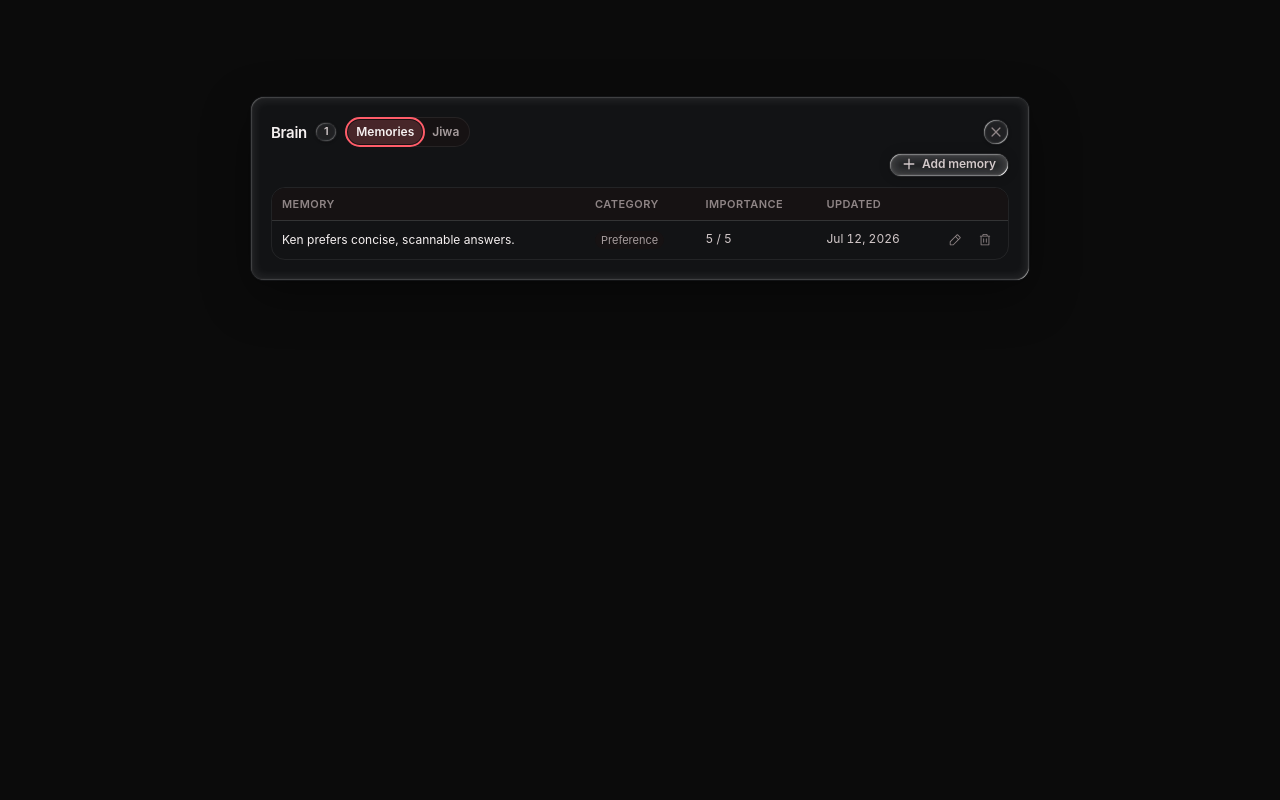
MemoryModal › adds a memory, then returns focus to Add and says so
The image size is (1280, 800).
Check: the text "Ken prefers concise, scannable answers." is shown, box [272, 220, 585, 259]
Click the button "Add memory". click: (949, 165)
box: [889, 153, 1009, 177]
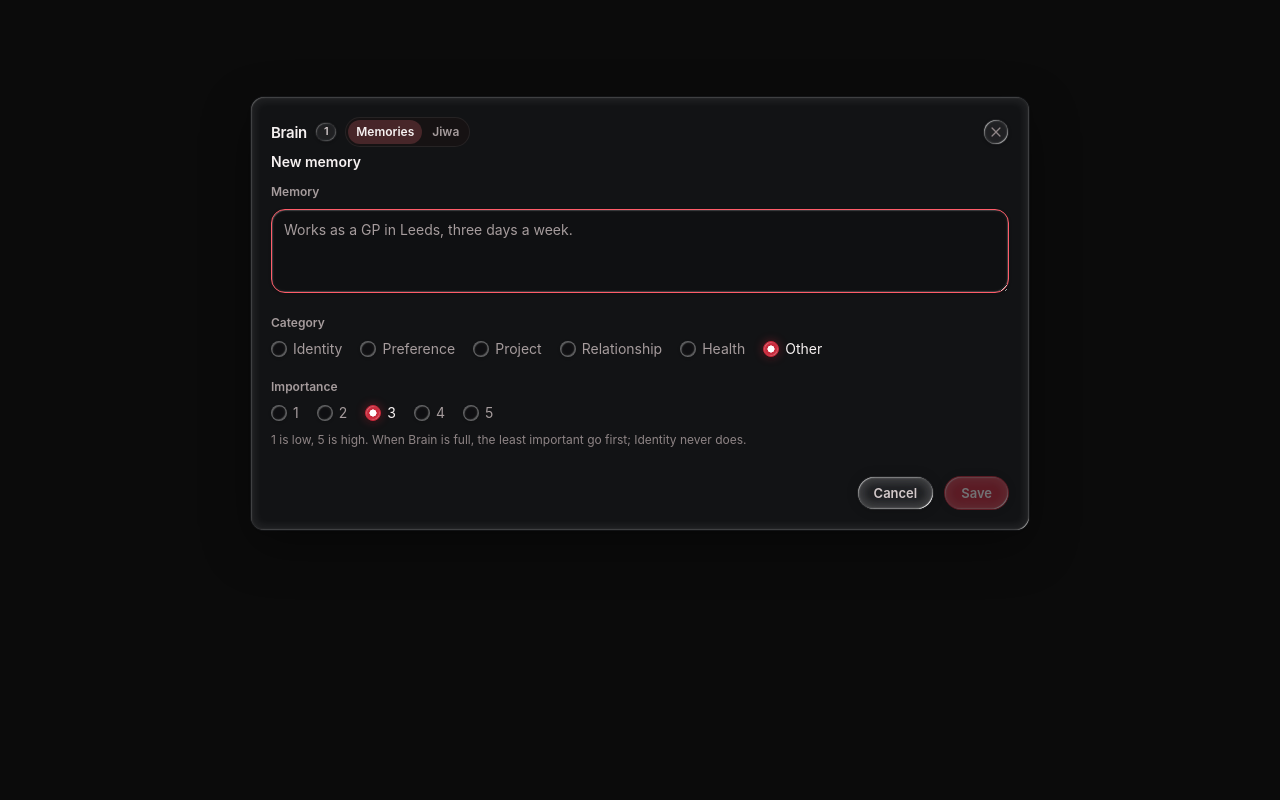
Check: the radio button labelled "Other" is checked, box [763, 340, 779, 356]
Check: the radio button labelled "3" is checked, box [365, 404, 381, 420]
Check: the button "Save" is disabled, box [944, 476, 1009, 510]
Type "  Ken is building durable chat memory.  " into the text box labelled "Memory". click: (640, 251)
box: [271, 209, 1009, 293]
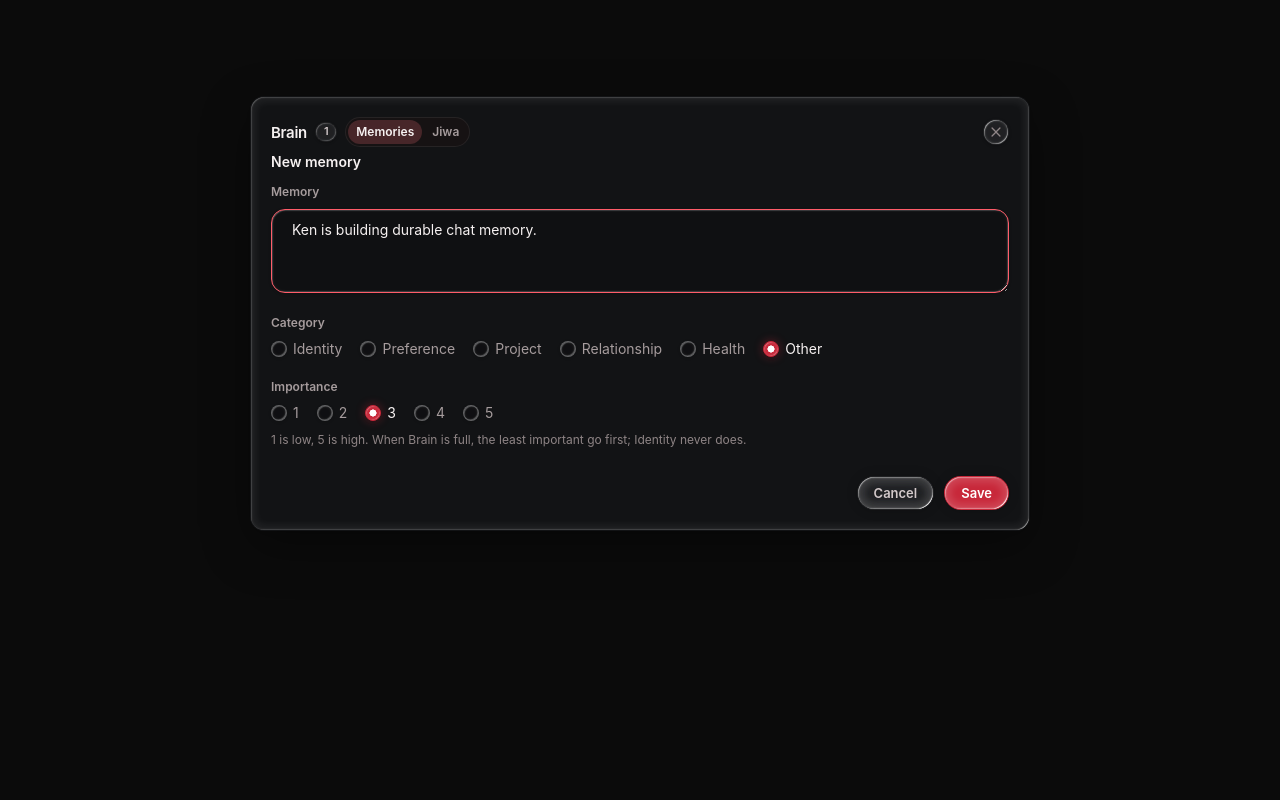
Click the radio button labelled "Project". click: (481, 348)
box: [473, 340, 489, 356]
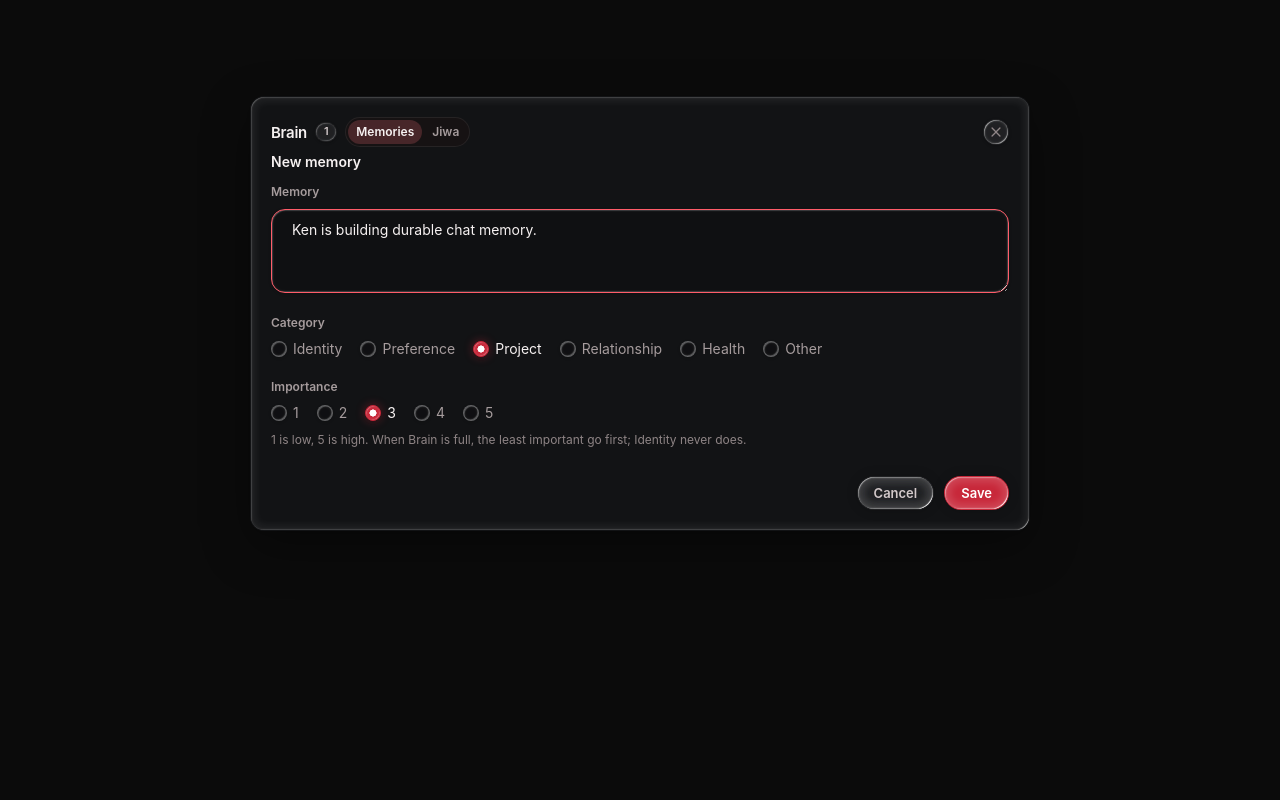
Click the radio button labelled "4". click: (422, 412)
box: [414, 404, 430, 420]
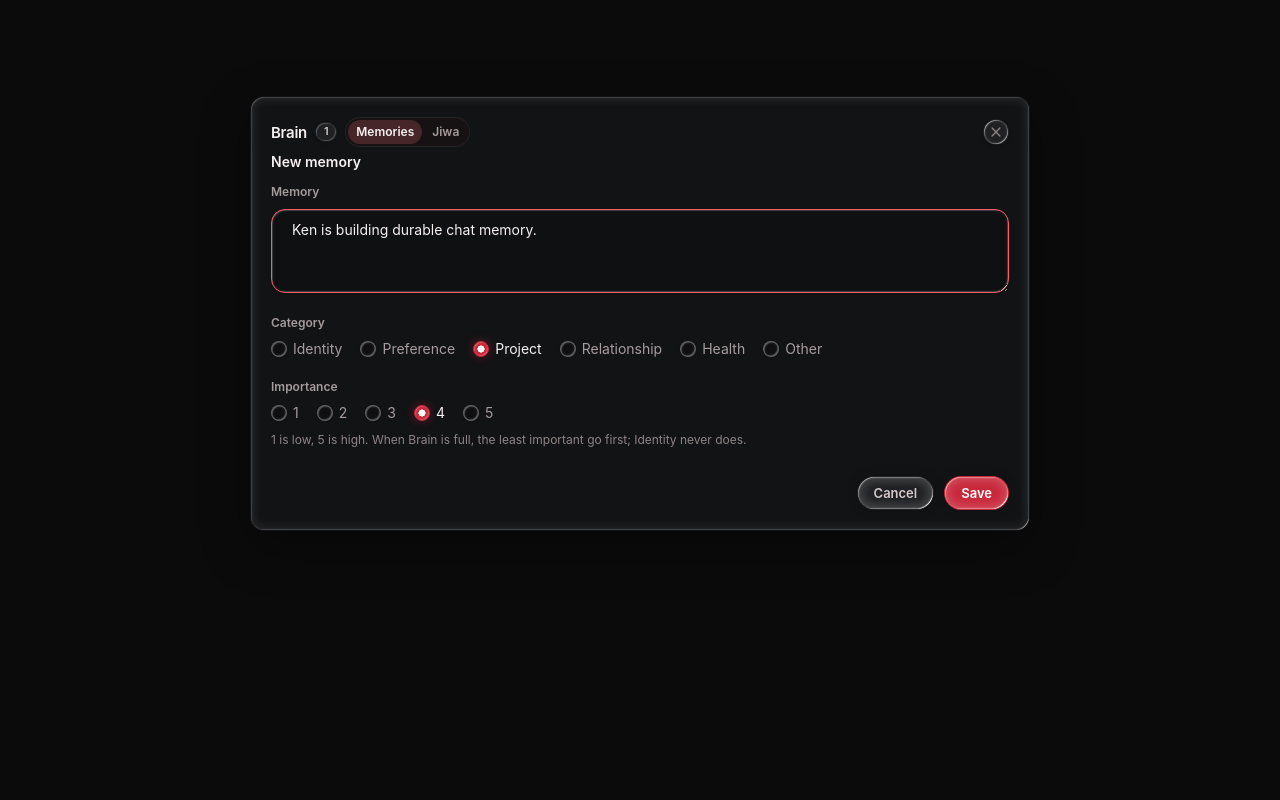
Click the button "Save". click: (977, 493)
box: [944, 476, 1009, 510]
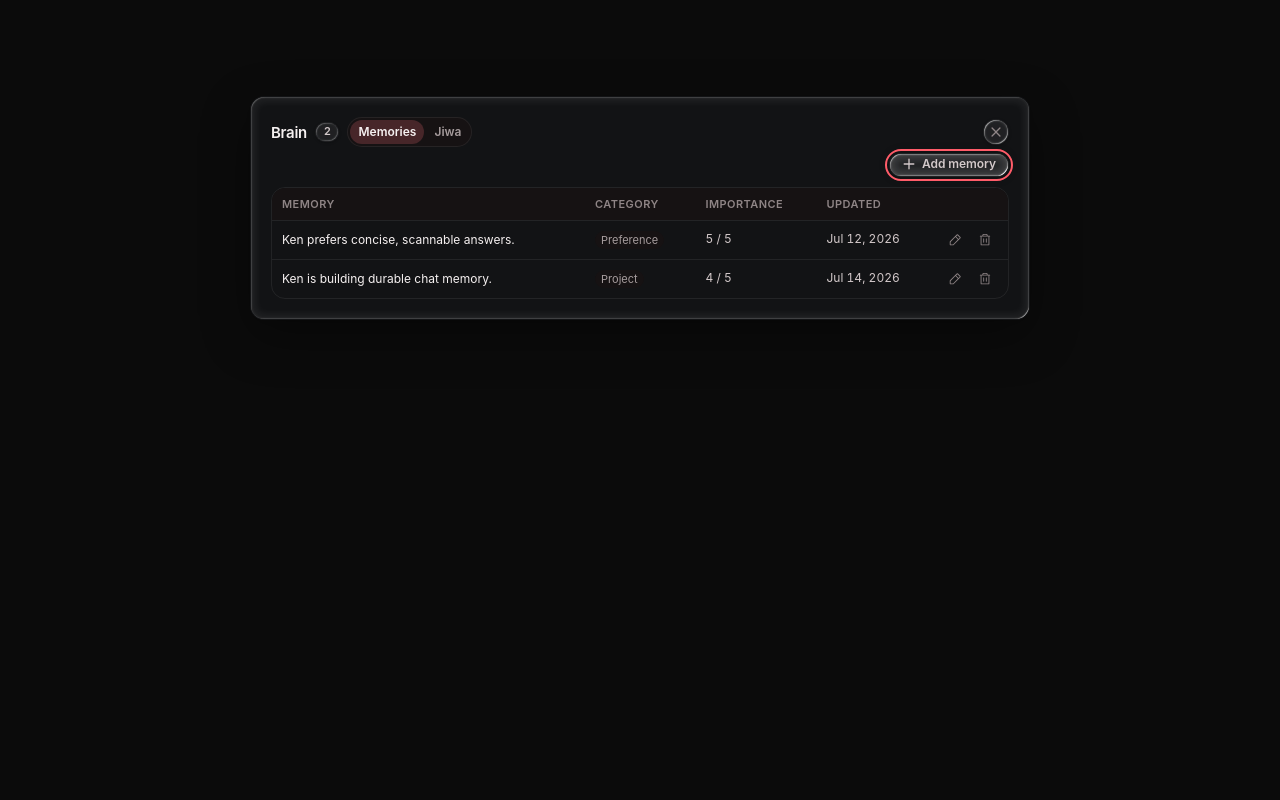
Check: the text "Ken is building durable chat memory." is shown, box [272, 260, 585, 298]
Check: the form is gone
Check: the text with class "badge" reads "2", box [324, 124, 330, 138]
